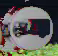Heavy Vehicles: (5, 2, 56, 51)
